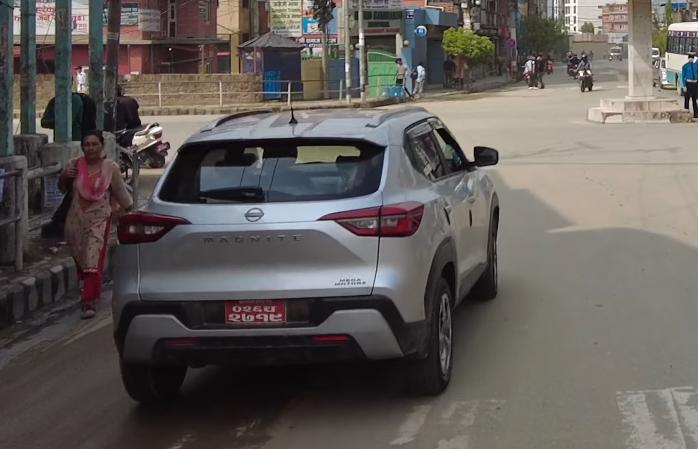bike: (576, 65, 596, 94)
bus: (665, 22, 698, 93)
car: (102, 91, 503, 397)
